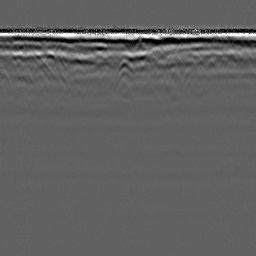cavity: (115, 58, 135, 76)
